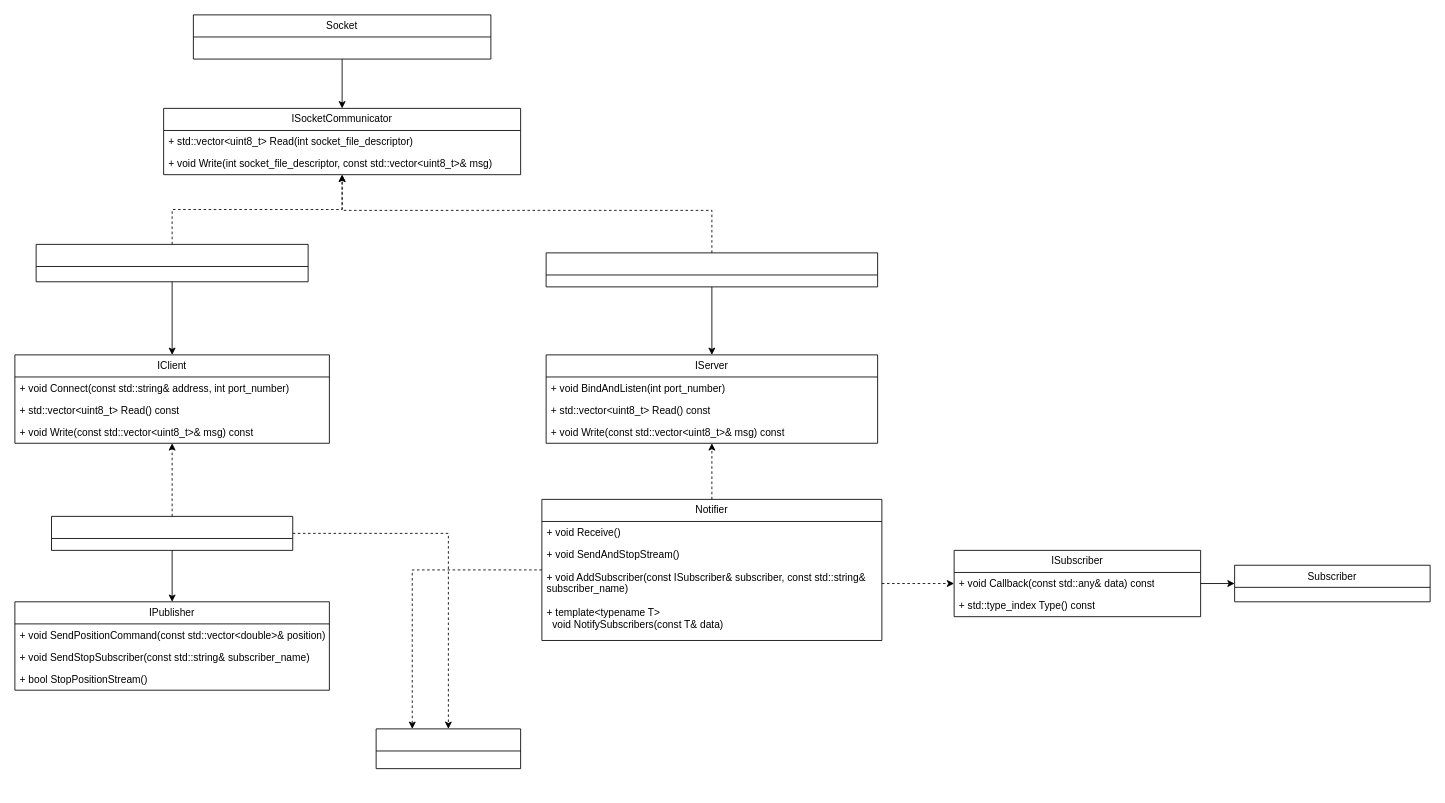
This 1445x803 diagram has some shape labels left out. The centre of each missing label's shape, as x and y in pixels:
Client: the point at 171,263
Publisher: the point at 172,533
Serializer: the point at 448,748
Server: the point at 711,269
